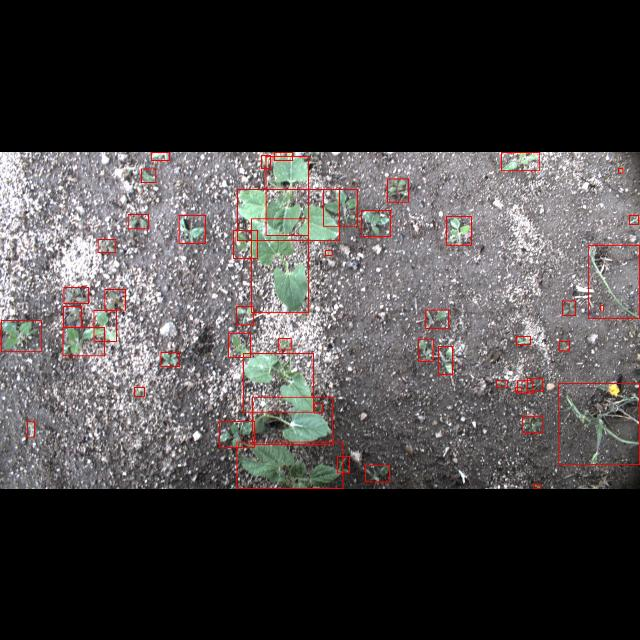crop: (237, 188, 339, 240), (252, 218, 308, 312), (237, 442, 343, 488), (243, 352, 313, 412), (252, 396, 332, 444), (266, 156, 308, 234)
weed: (558, 384, 640, 464), (589, 245, 639, 318), (323, 188, 357, 226), (63, 326, 105, 356), (1, 321, 41, 352), (220, 421, 254, 447), (362, 210, 391, 236), (179, 214, 205, 242), (446, 216, 472, 244), (501, 152, 539, 170), (233, 230, 257, 258), (94, 310, 116, 340), (229, 332, 251, 358), (388, 178, 408, 200), (365, 464, 389, 482), (105, 289, 125, 309), (426, 310, 448, 328), (438, 346, 452, 374), (64, 287, 88, 303), (64, 306, 82, 326), (418, 338, 434, 360), (236, 306, 254, 324), (522, 416, 542, 432), (160, 352, 180, 366), (128, 214, 148, 228), (98, 238, 116, 252), (140, 168, 156, 182), (562, 300, 576, 316), (528, 378, 542, 392), (337, 456, 349, 472), (518, 380, 532, 392), (151, 151, 169, 159), (274, 152, 292, 160), (279, 338, 291, 350), (262, 154, 270, 168), (516, 336, 530, 344), (559, 340, 569, 350), (135, 387, 145, 397), (28, 421, 34, 437), (629, 214, 639, 223), (497, 379, 508, 386), (314, 403, 322, 412), (326, 250, 332, 254), (515, 387, 521, 391), (534, 484, 540, 488), (618, 168, 624, 172), (600, 306, 604, 310)
